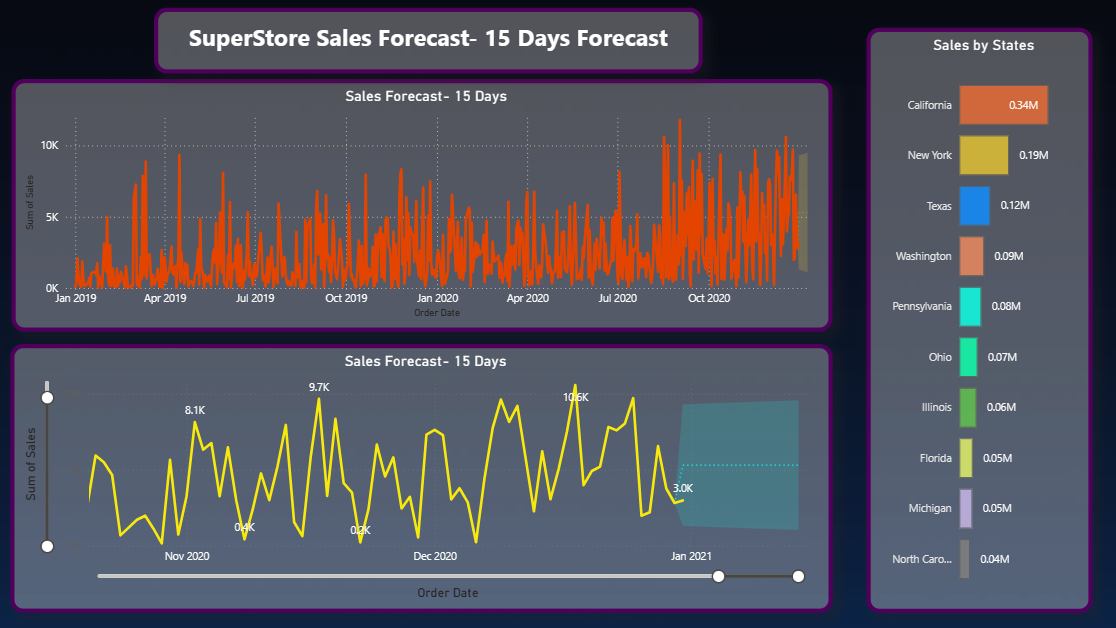

What the dashboard file says about the page in this screenshot:
{"tool":"powerbi","page":{"name":"Page 2","canvas":[1280,720],"ordinal":1},"visuals":[{"type":"lineChart","title":"Sales Forecast- 15 Days","fields":{"Y":["Sum(SuperStore_Sales_Dataset.Sales)"],"Category":["SuperStore_Sales_Dataset.Order Date"]},"box":[14.3,91.4,938.6,288.6],"z":0},{"type":"lineChart","title":"Sales Forecast- 15 Days","fields":{"Y":["Sum(SuperStore_Sales_Dataset.Sales)"],"Category":["SuperStore_Sales_Dataset.Order Date"]},"box":[12.9,394.3,940,307.1],"z":1000},{"type":"clusteredBarChart","title":"Sales by Category","fields":{"Category":["SuperStore_Sales_Dataset.State"],"Y":["Sum(SuperStore_Sales_Dataset.Sales)"]},"box":[991.4,32.9,258.6,668.6],"z":2000},{"type":"textbox","box":[177.5,10,627.5,75],"z":4000}]}

Visuals, with their boxes in screenshot pixels (x1, y1, x2, y2), scaled from the page's 1280x720 canvas onto the 1116x628 screenshot:
"Sales Forecast- 15 Days" lineChart: 12/80/831/331
"Sales Forecast- 15 Days" lineChart: 11/344/831/612
"Sales by Category" clusteredBarChart: 864/29/1090/612
textbox: 155/9/702/74
